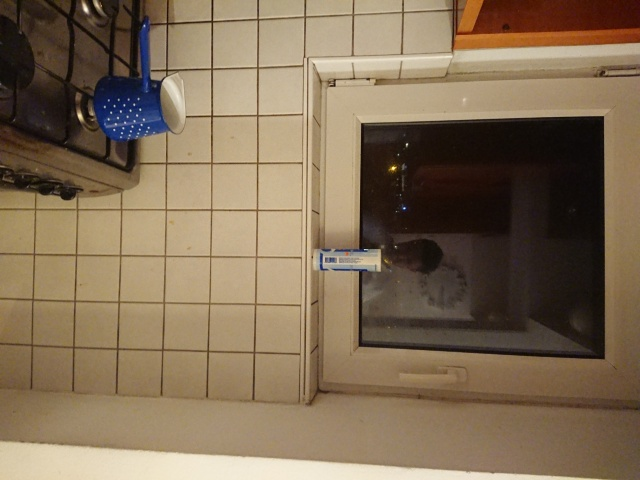Solana Pag Fine Sea Salt 250g: (309, 246, 385, 274)
